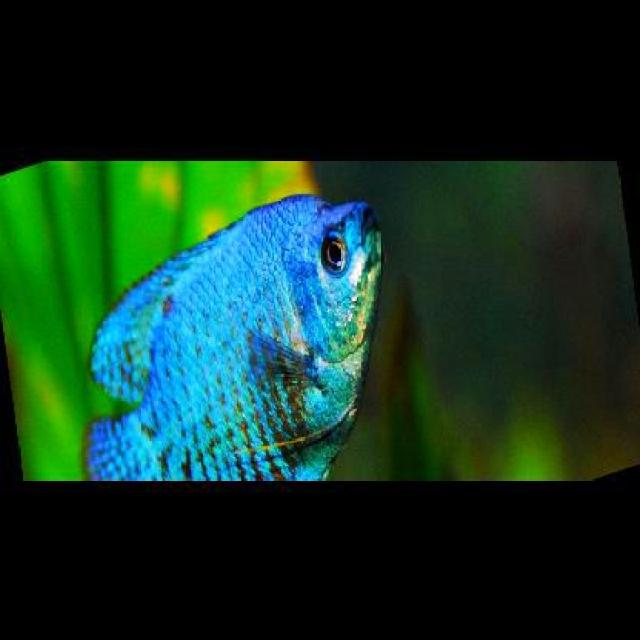Gourami: (79, 195, 383, 479)
